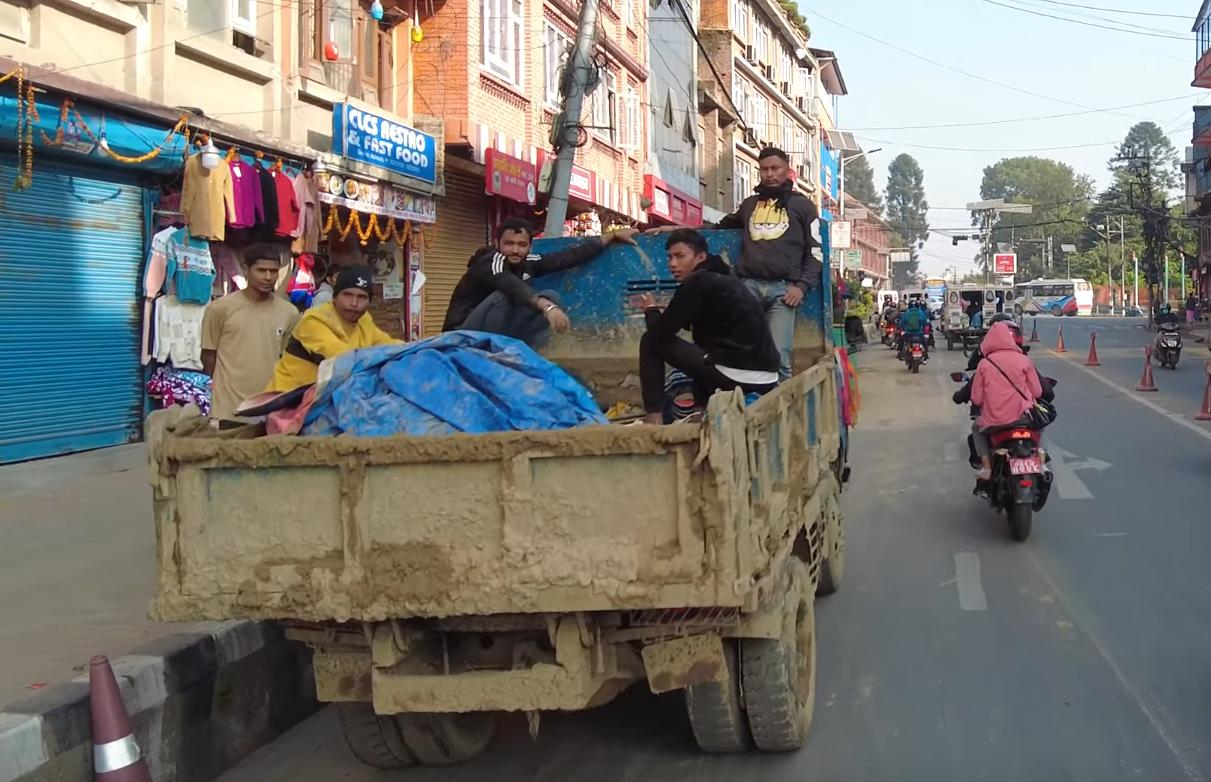bike: (947, 324, 1086, 554), (885, 305, 935, 382)
bus: (1009, 265, 1106, 327)
mini_truck: (131, 213, 860, 754)
scooter: (1139, 295, 1195, 383)
